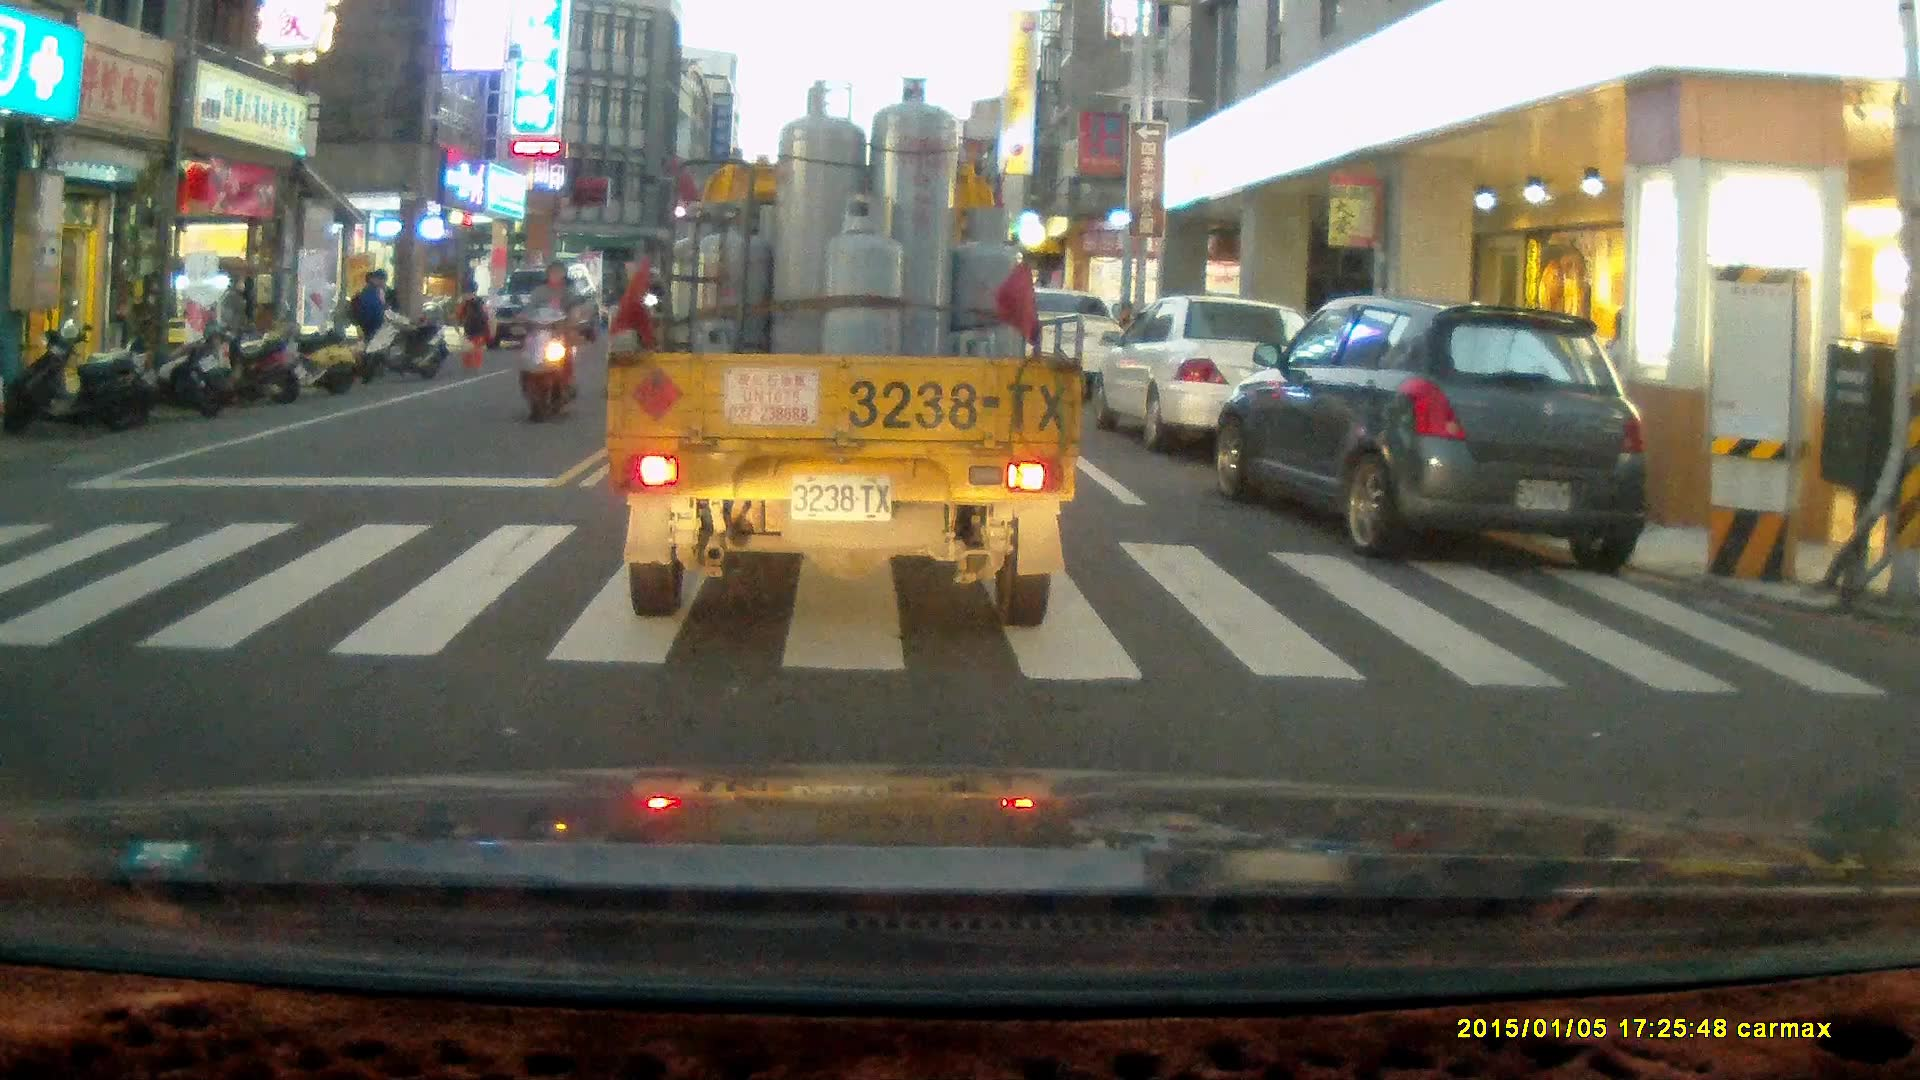pedestrian: (447, 278, 494, 374), (348, 270, 386, 379), (217, 266, 248, 366)
rider: (510, 257, 580, 424)
vehicle: (602, 75, 1085, 626), (1215, 295, 1654, 568), (1097, 303, 1317, 461), (985, 295, 1139, 422), (489, 267, 601, 356)
